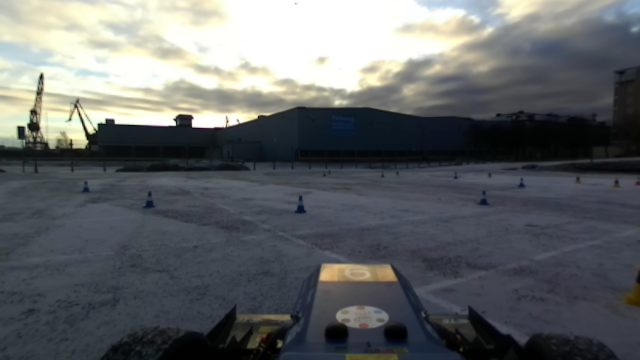blue: (139, 190, 156, 211), (293, 194, 307, 215), (476, 188, 491, 206), (79, 180, 92, 196), (516, 176, 527, 190)
